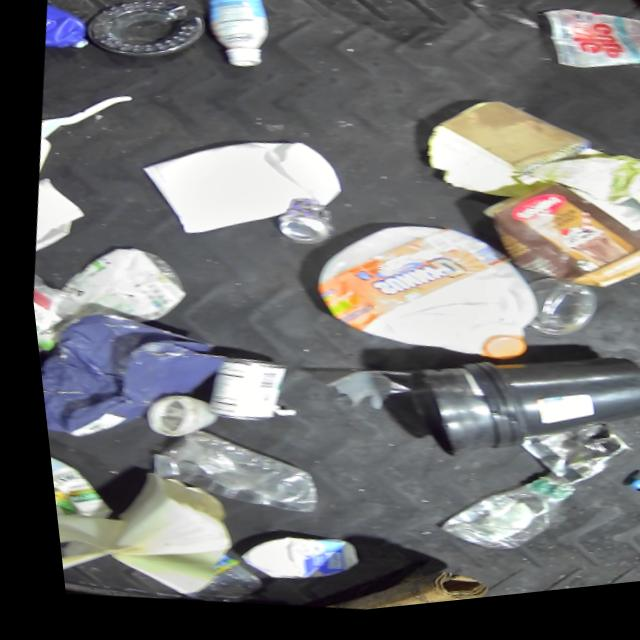can: (501, 418, 632, 508), (194, 353, 284, 434), (267, 201, 333, 256)
milk_jug: (293, 208, 546, 389), (127, 120, 350, 265), (219, 526, 352, 599), (39, 437, 112, 550)
non_white_jug: (384, 334, 640, 496), (27, 294, 224, 461), (467, 177, 640, 318), (482, 139, 640, 238), (38, 0, 98, 57)
plastic_bottle: (421, 467, 569, 574)
